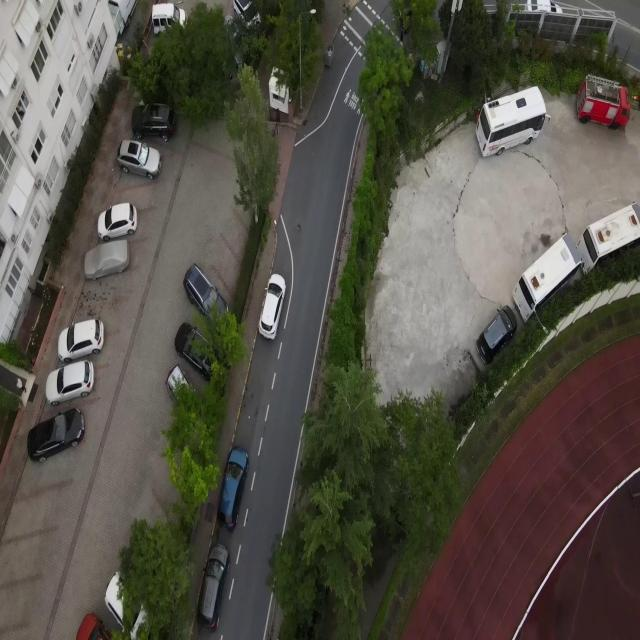p3rson: (16, 378, 27, 394)
